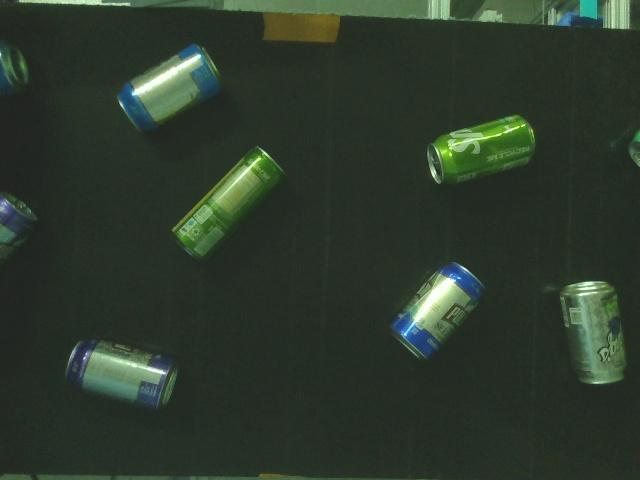metal: (165, 142, 291, 268), (384, 256, 490, 366), (112, 41, 230, 139), (55, 333, 186, 414), (422, 113, 543, 191), (556, 277, 632, 388), (0, 181, 42, 278), (0, 36, 35, 106), (624, 112, 640, 180)
